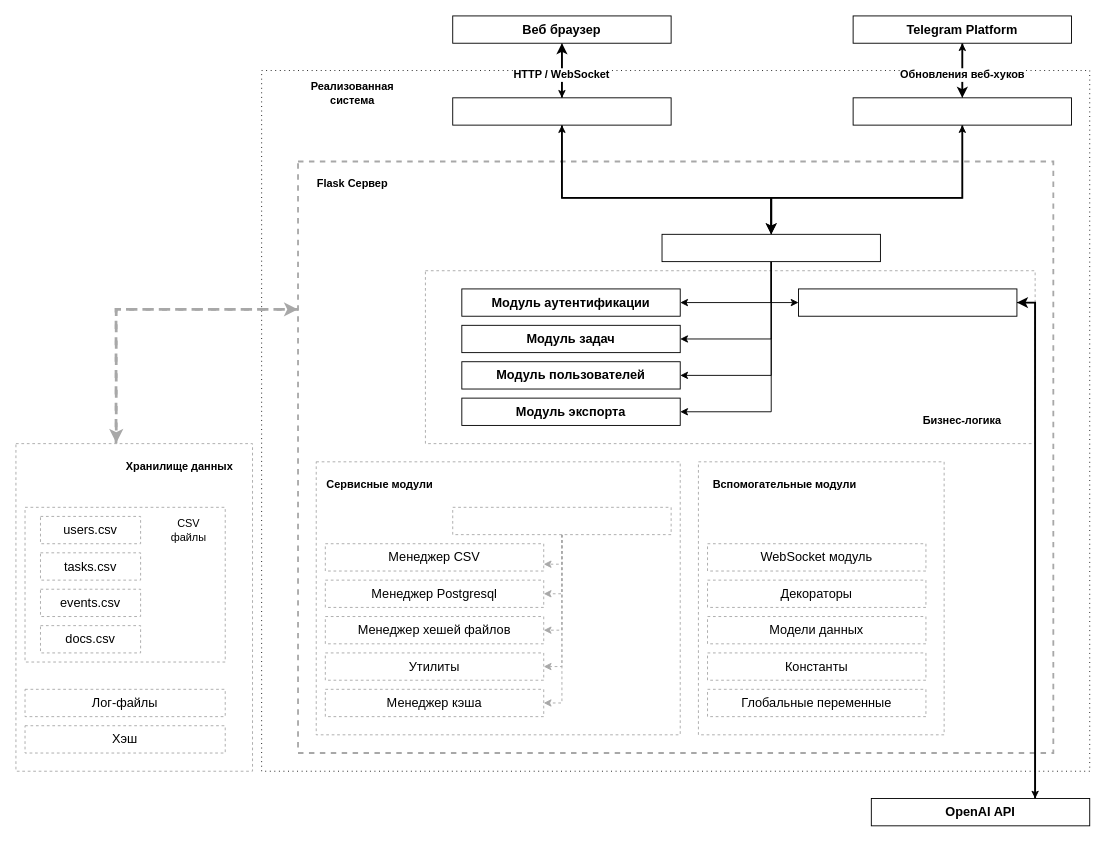
The diagram is 1106 pixels wide and 842 high, and some of its shapes have lost their labels. Each missing label, with the centre of its shape:
"API Сервер" goes at (770,247).
"Telegram Bot" goes at (962,111).
"Канбан-доска" goes at (561,111).
"Менеджер конфигурации" goes at (561,520).
"Модуль отчетов LLM" goes at (907,302).
